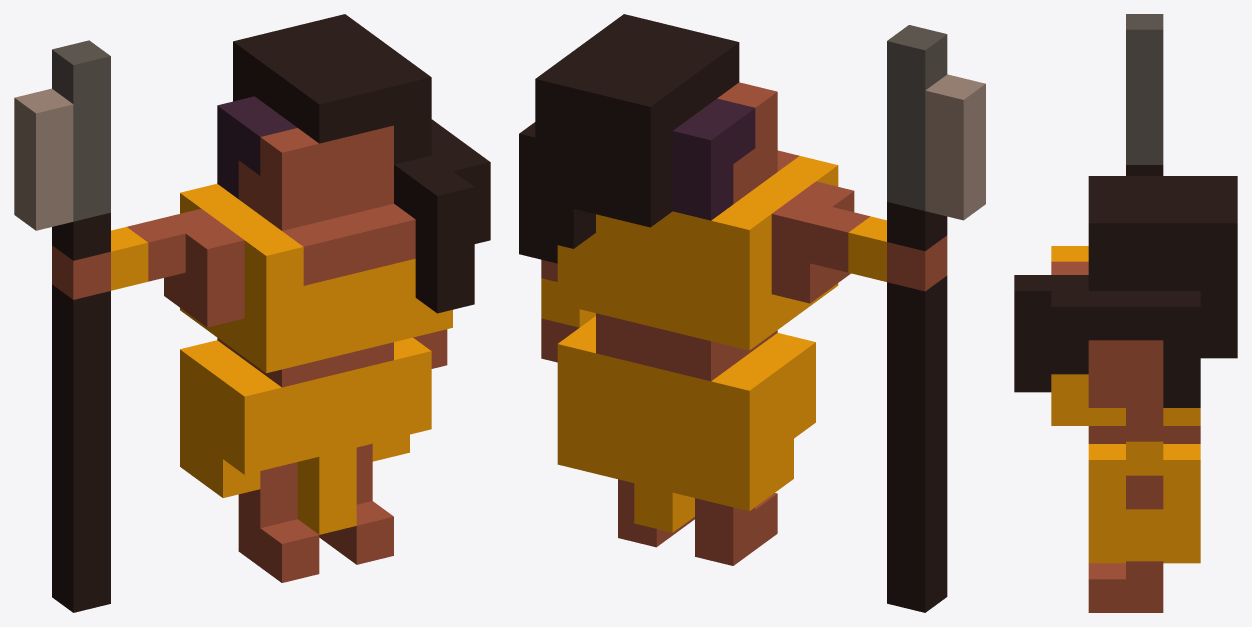
File: amazon.obj
The picture shows the model from 3 angles, left to right: view 1: azimuth 30°, elevation 25°; view 2: azimuth 150°, elevation 25°; view 3: azimuth 270°, elevation 25°; orthographic projection. The views are drawn at different scales.
Size of the model in its own units: 1.1 by 1.4 by 0.6.
Materials: 1 (1 with a texture image).
